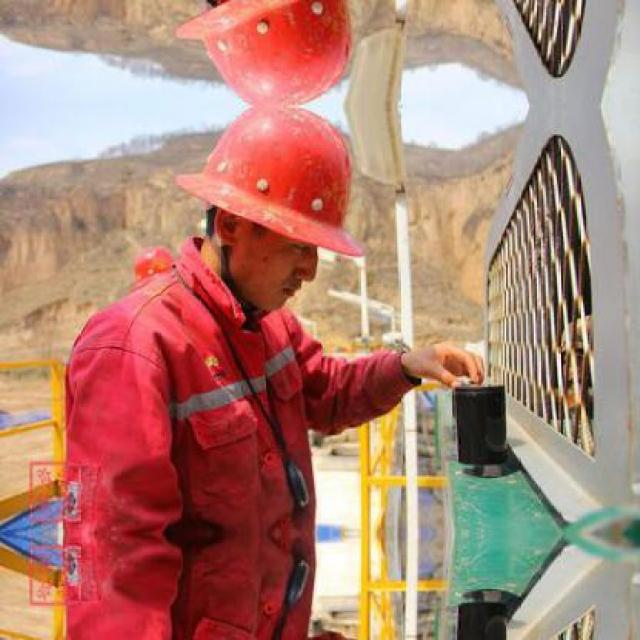Reflective-Jacket: (28, 270, 434, 640)
Safety-Helmet: (169, 105, 382, 267)
